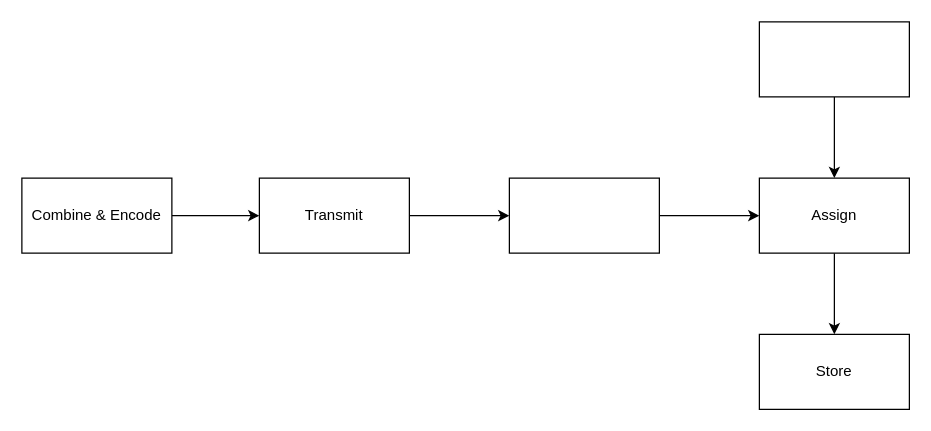
The diagram is 931 pixels wide and 431 high, and some of its shapes have lost their labels. Here are the shapes that lost their labels. From the top down, the centre of each, then its label:
the point at 833,59: Config API
the point at 583,215: Decode
